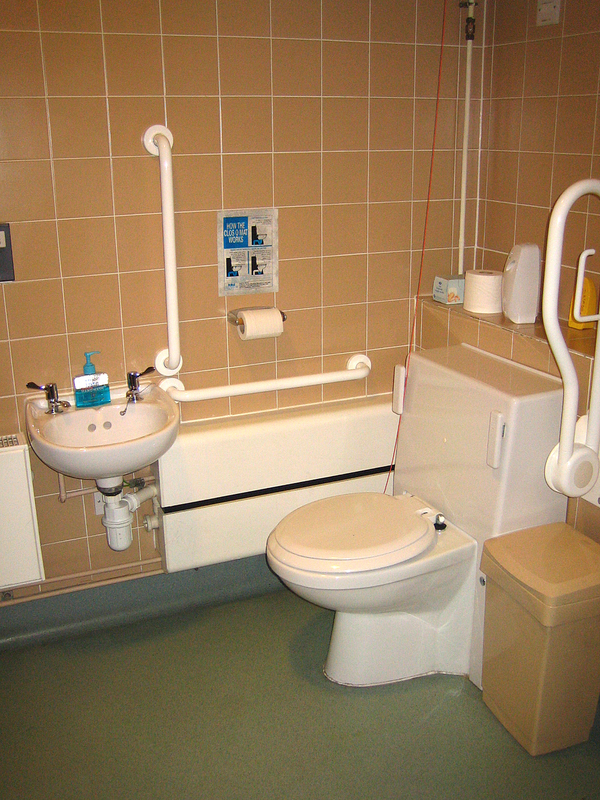dispenser: (199, 297, 300, 341), (74, 354, 109, 408)
faucet: (25, 379, 72, 418), (116, 364, 156, 400)
restroom_assist_bar: (545, 177, 600, 497), (141, 125, 184, 377), (161, 353, 371, 403)
sink: (21, 379, 181, 495)
toilet: (258, 343, 560, 692)
waste_bin: (480, 523, 600, 757)
